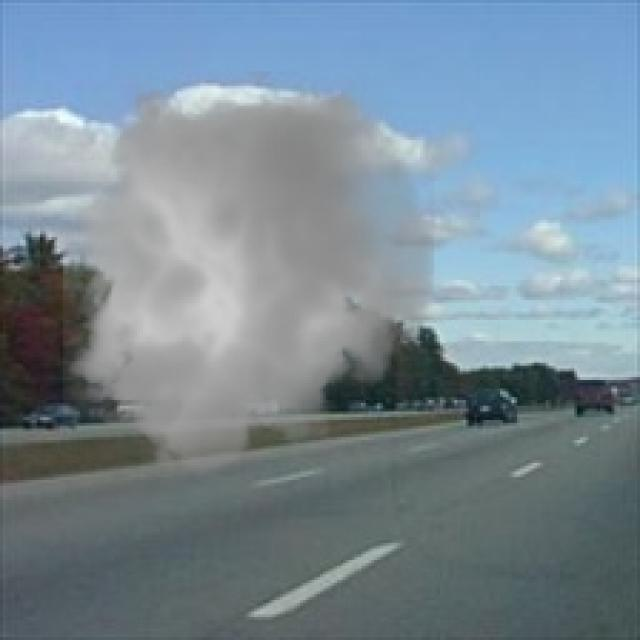smoke: (46, 71, 448, 492)
